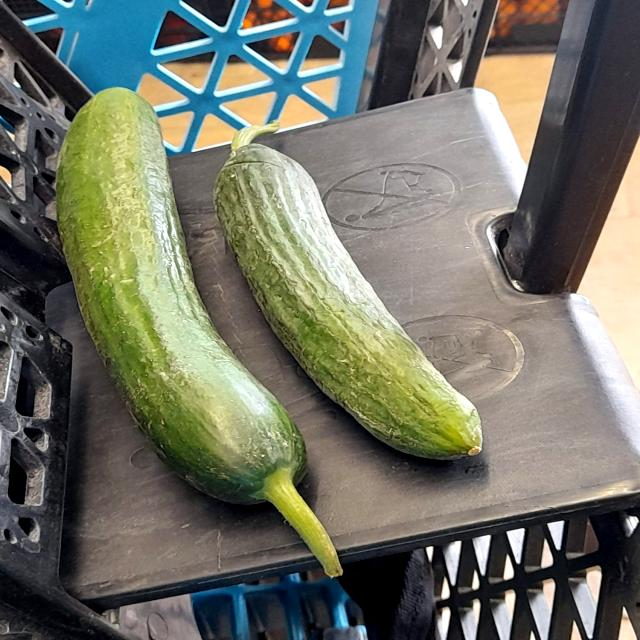cucumber: (33, 75, 324, 538), (203, 122, 488, 466)
